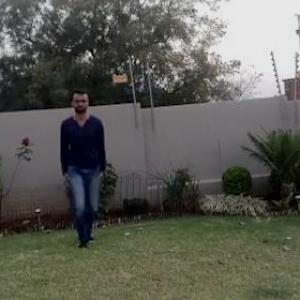follow: (60, 89, 112, 241)
